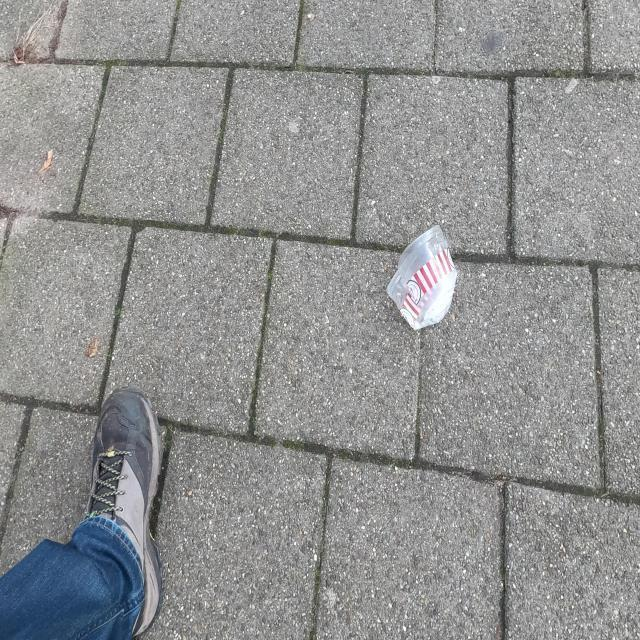Cup: (386, 218, 459, 332)
